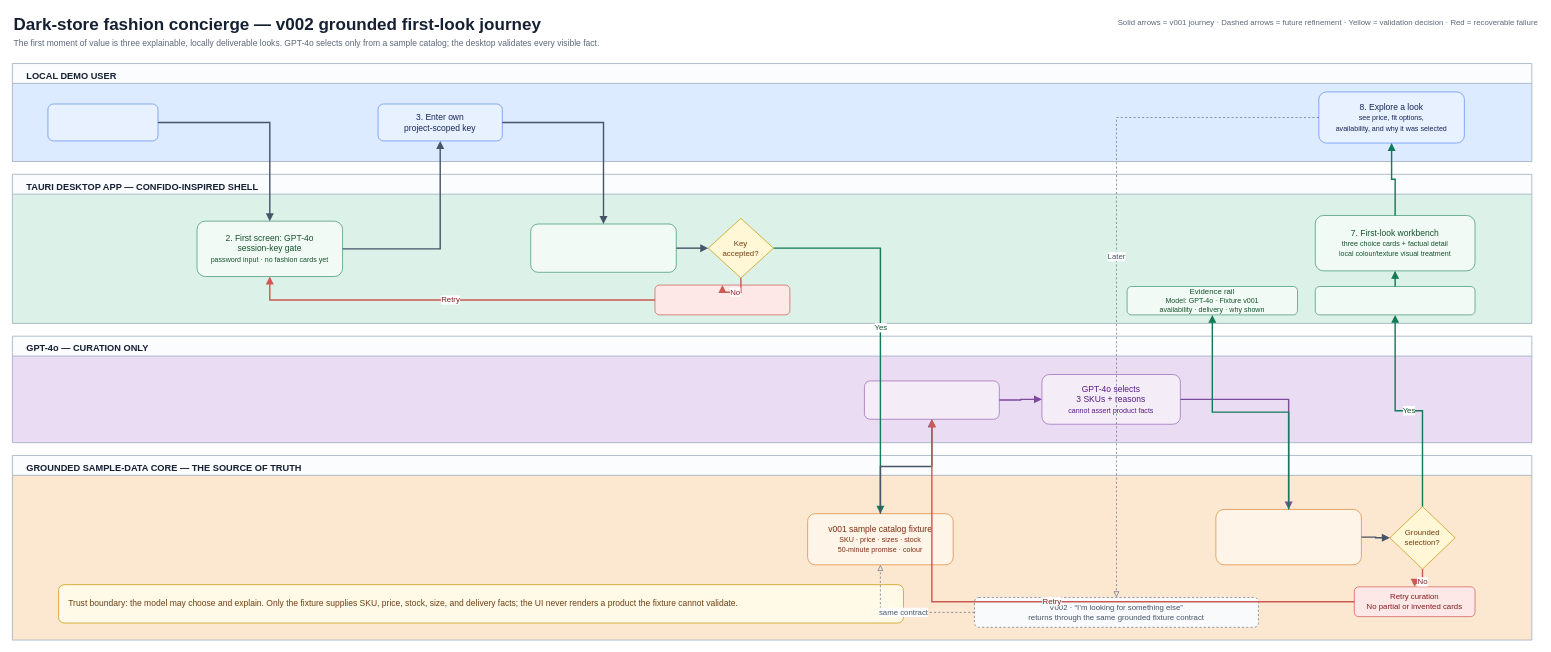
Some shapes in this 1551 by 652 pixel diagram are drawn without their labels. Here are the shapes that lost their labels. From the top down, the box of each, then its label:
(47, 103, 158, 141): 1. Open the local desktop demo
(530, 223, 676, 272): 4. Validate key in Tauri session memory only · never saved or logged
(654, 284, 790, 315): Redacted error + retry no key value in UI, logs, or data
(1315, 286, 1475, 315): Typed HomeLookResponse validated cards + evidence only no raw model JSON
(864, 380, 999, 419): 5. Curation prompt contains fixture facts only
(1215, 509, 1361, 565): 6. Validate response exactly 3 · distinct · known SKU non-blank rationale
